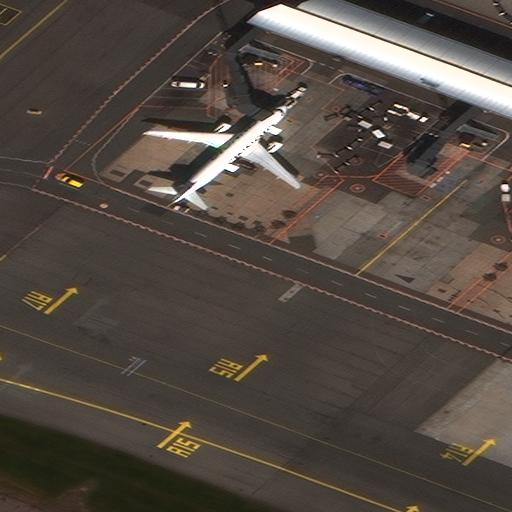Medium Civil Transport: (145, 104, 301, 208)
